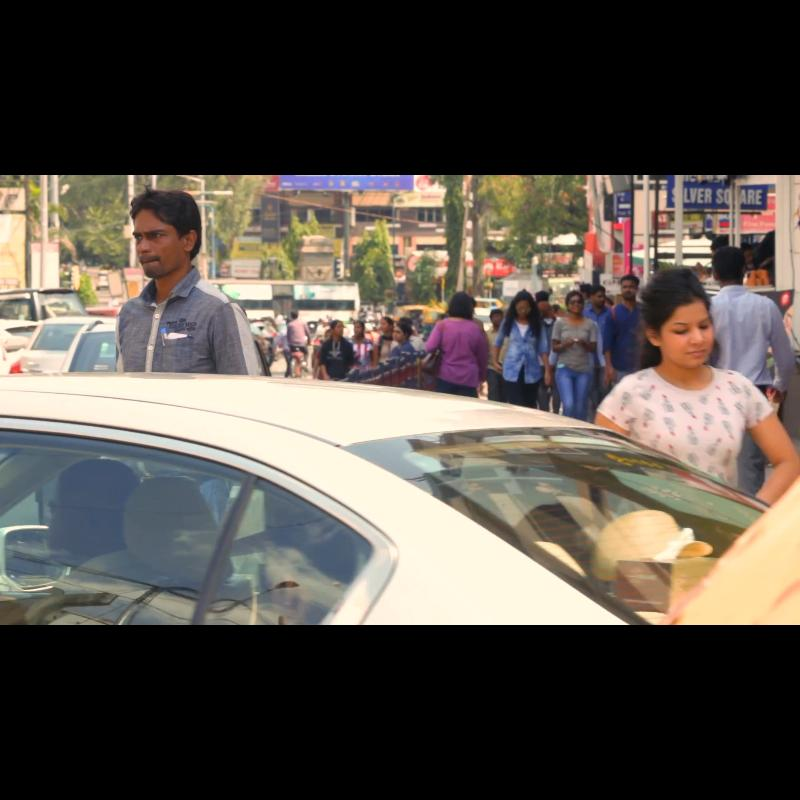Jeans: (554, 363, 594, 419)
Shirt: (92, 293, 294, 379), (714, 295, 800, 379), (496, 324, 564, 384), (608, 306, 652, 364)
Tshirt: (600, 366, 784, 484), (422, 316, 496, 390), (560, 318, 602, 372)
